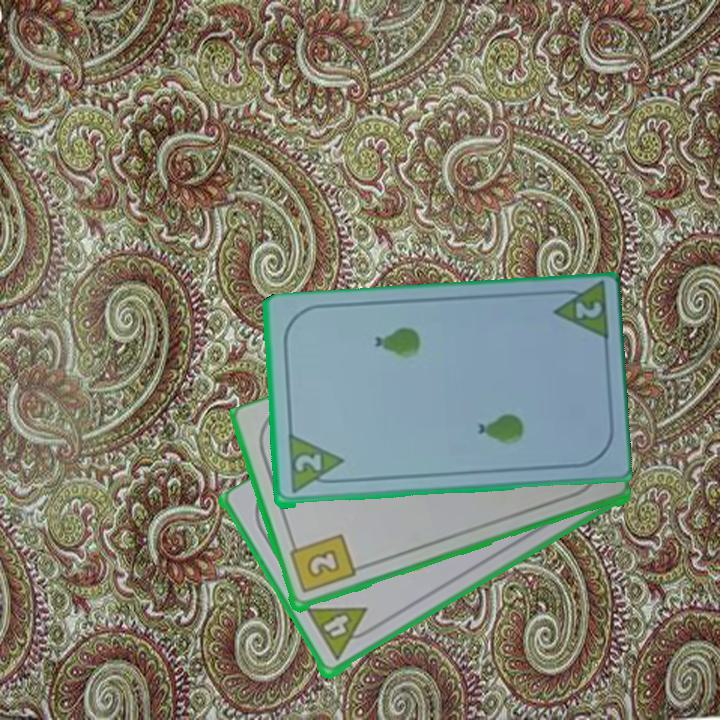2b: (285, 531, 358, 597)
2p: (545, 282, 610, 347), (284, 433, 346, 497)
4p: (303, 603, 379, 664)
